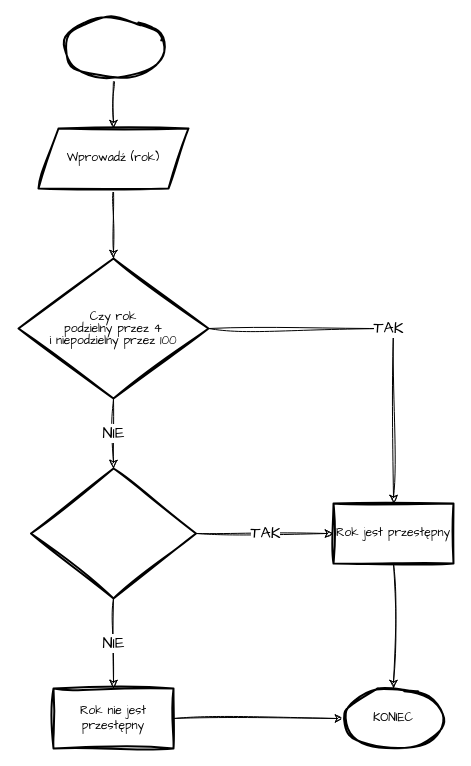
The diagram is 471 pixels wide and 766 high, and some of its shapes have lost their labels. Each missing label, with the box of its shape:
Czy rok podzielny przez 400: (30, 467, 196, 599)
START: (62, 17, 164, 79)
